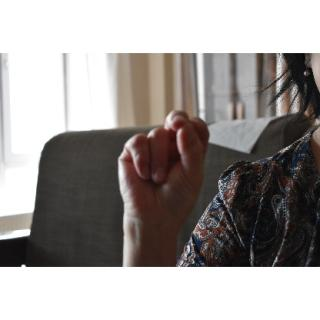QAAF: (111, 102, 212, 240)
